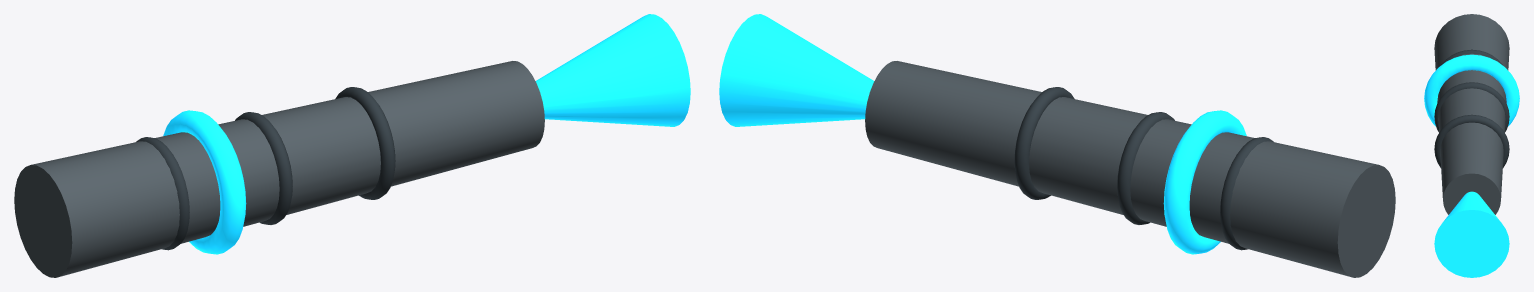
File: shot.glb
3 renders of one model, left to right at view 1: azimuth 30°, elevation 25°; view 2: azimuth 150°, elevation 25°; view 3: azimuth 270°, elevation 25°, orthographic. The views are drawn at different scales.
Bounding box in the file's own units: 2.71 × 0.56 × 0.56.
